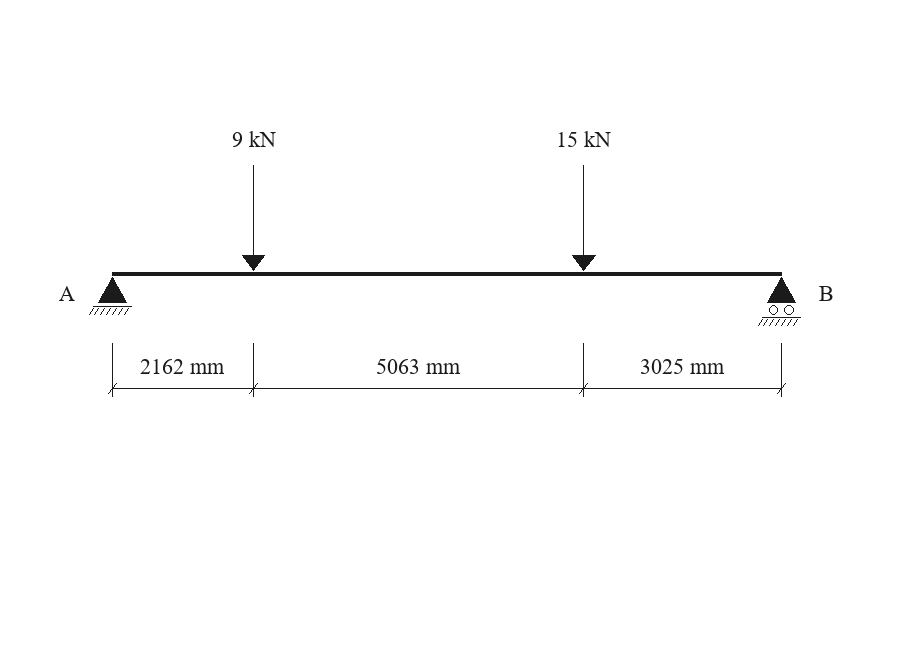pin_support: (89, 277, 132, 315)
point_load: (572, 165, 596, 271), (242, 165, 265, 271)
roller_support: (758, 277, 801, 326)
